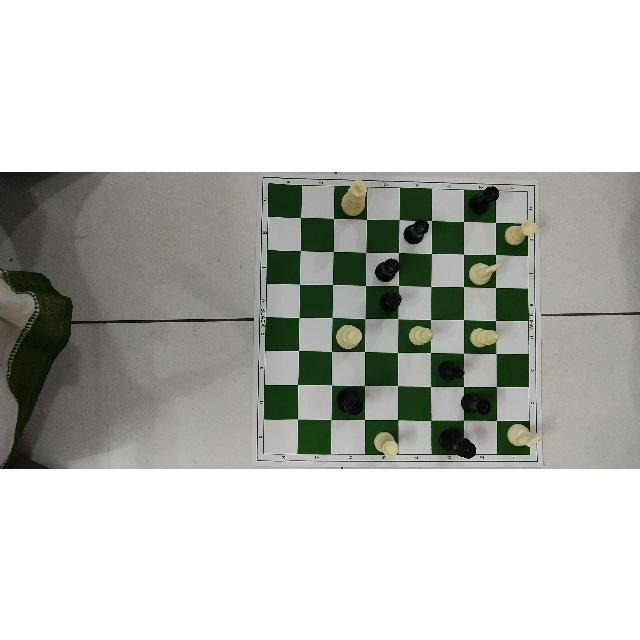black-bishop: (439, 360, 465, 380), (378, 290, 401, 312)
black-king: (336, 388, 363, 414)
black-queen: (437, 425, 476, 458)
black-rook: (468, 185, 499, 213), (461, 391, 491, 415), (404, 218, 430, 244), (375, 256, 400, 281)
white-bishop: (470, 327, 499, 346), (408, 324, 434, 345)
white-king: (340, 180, 367, 216)
white-knight: (507, 422, 543, 446), (467, 261, 502, 285)
white-queen: (336, 323, 362, 348)
white-rook: (504, 219, 538, 245), (374, 430, 400, 456)
